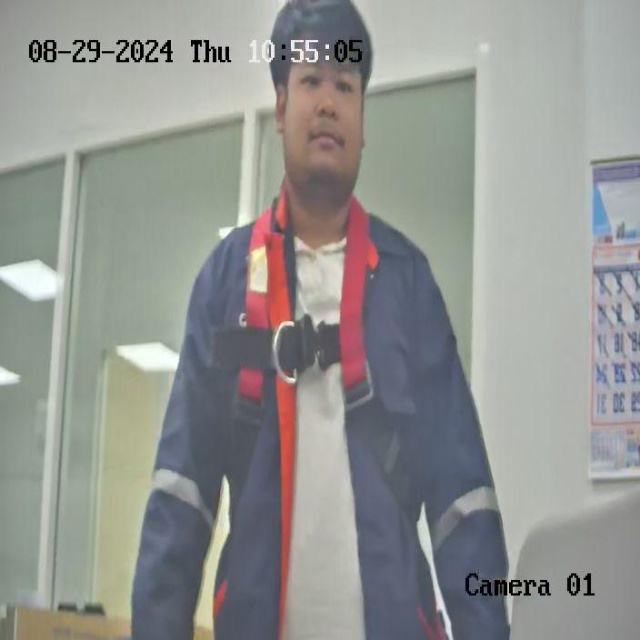Arnes_seguridad: (222, 190, 416, 519)
